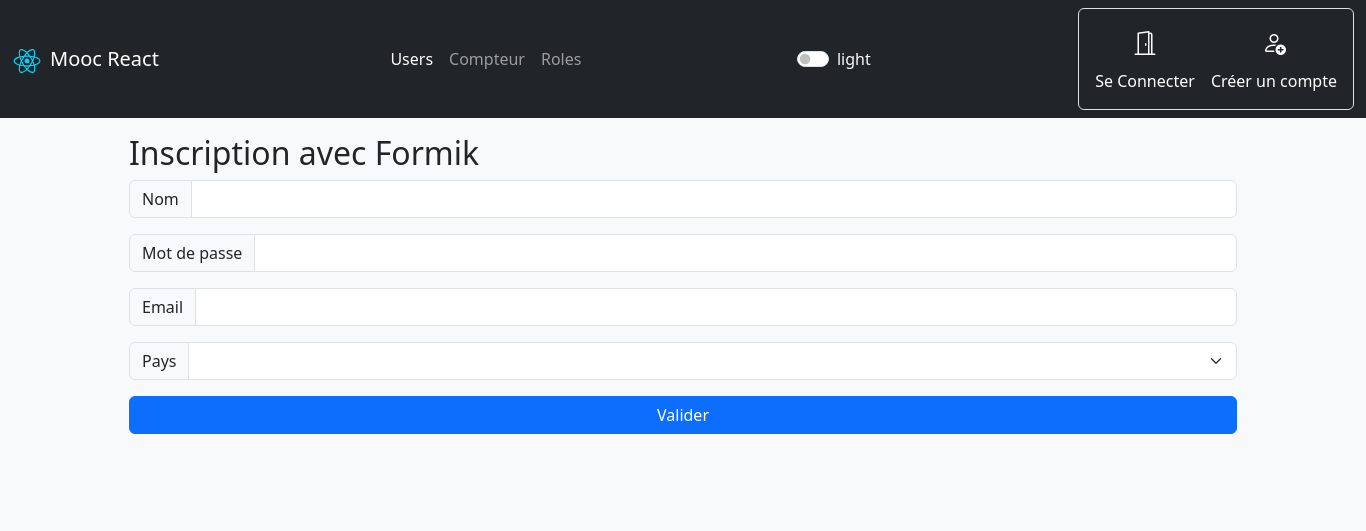
Test: Register › devrait afficher une erreur si le nom est trop court
The image size is (1366, 531).
Step 1. Type "T" into the field with id "name" → (714,199), box [191,180,1237,218]
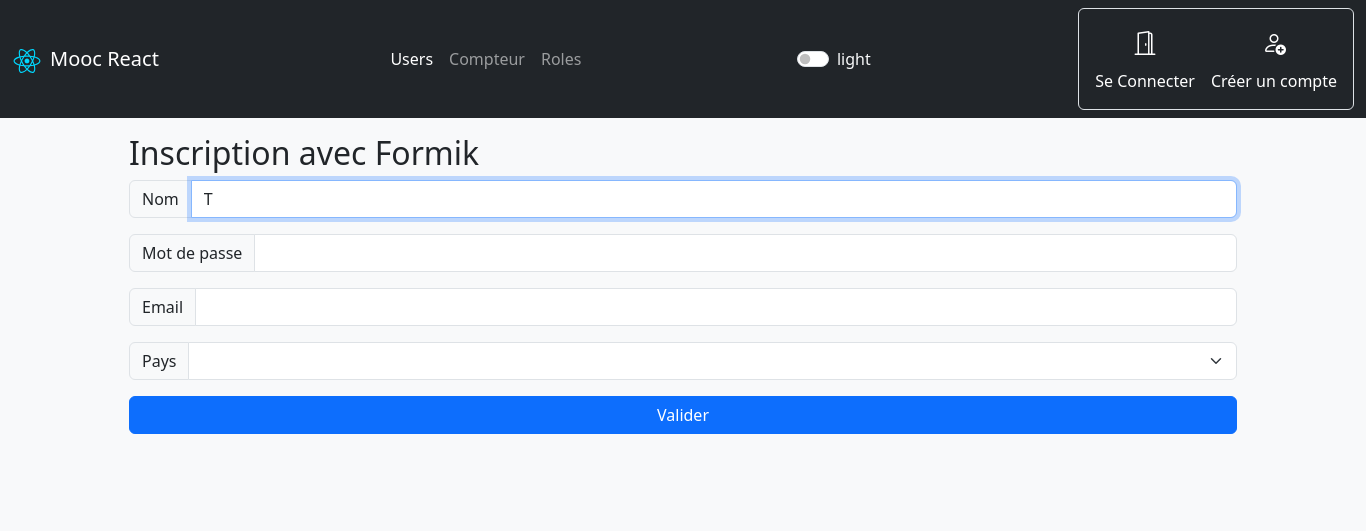
Step 2. Click the submit button → (683,415), box [129,396,1237,434]
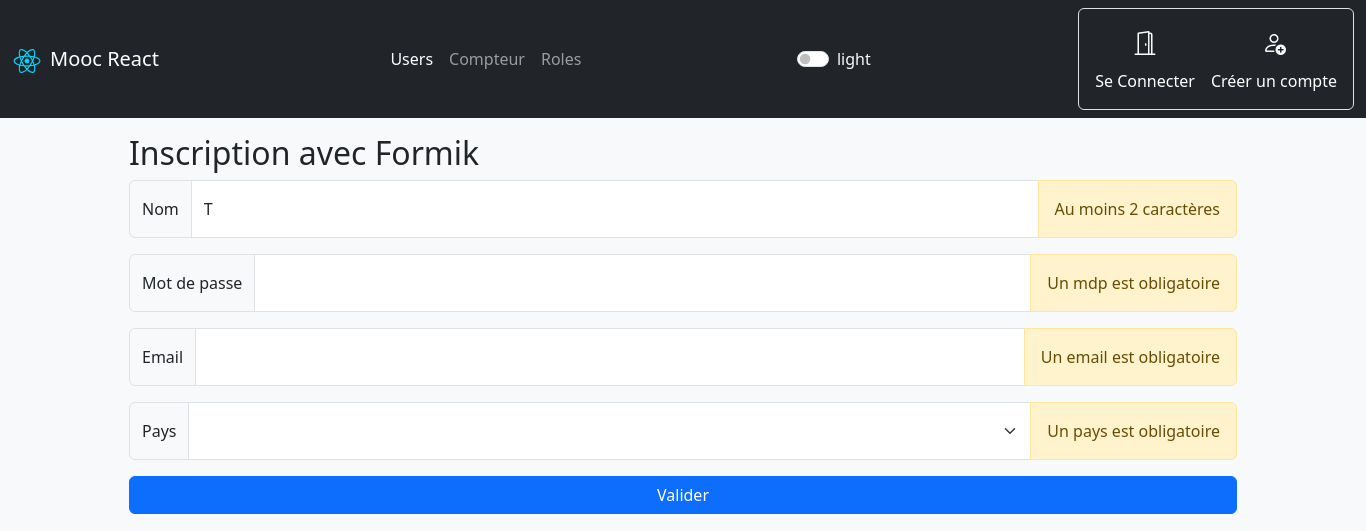
Expected: the text "Au moins 2 caractères" is shown, [1038,180,1237,238]
